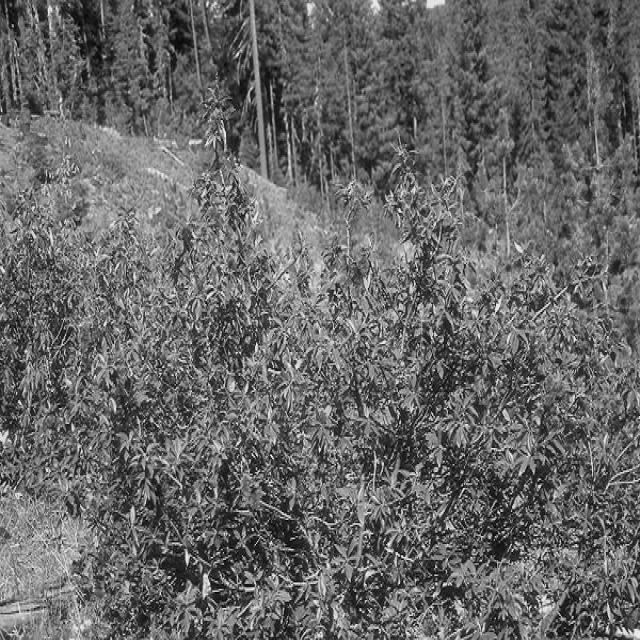Chrysolepis chrysophylla: (63, 91, 595, 640)
